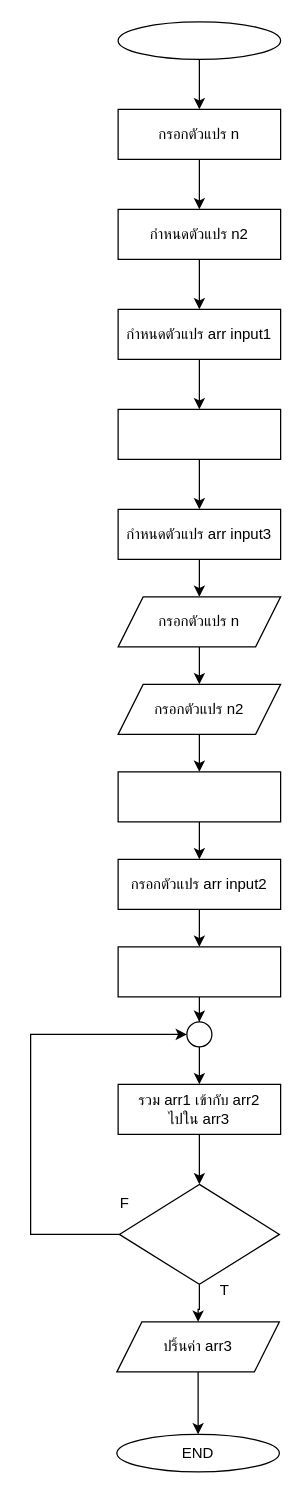
The diagram is 303 pixels wide and 1494 high, and some of its shapes have lost their labels. Here are the shapes that lost their labels. From the top down, the box of each, then its label:
(117, 21, 281, 59): Start
(117, 408, 281, 459): กำหนดตัวแปร arr input2
(117, 771, 281, 822): กรอกตัวแปร arr input1
(117, 946, 281, 997): กรอกตัวแปร arr input3
(118, 1183, 279, 1284): รวมครบแล้วหรือไม่
